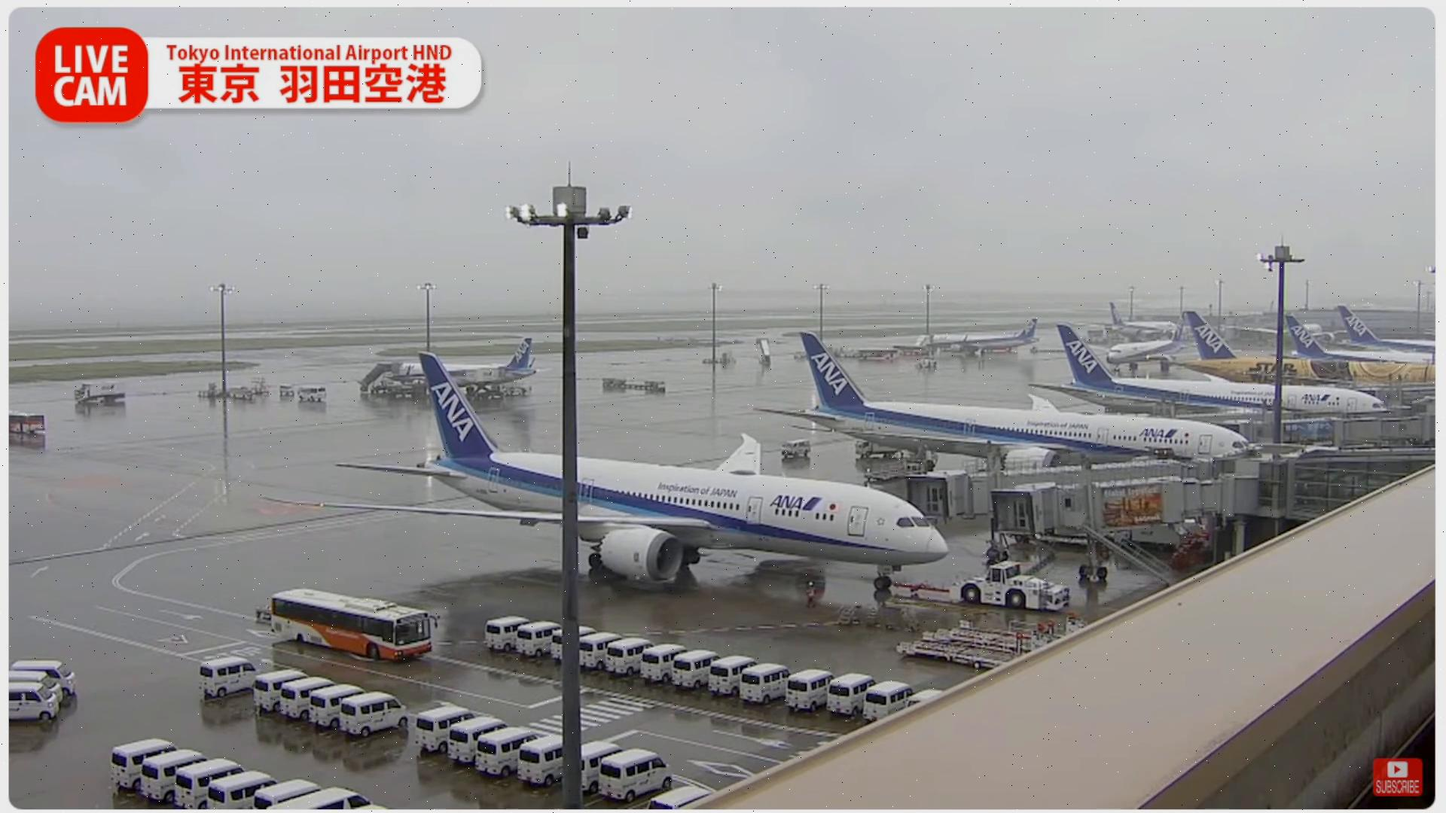APS: (947, 559, 1072, 611)
Aerobridge: (904, 455, 1210, 522), (991, 474, 1261, 535)
Airplane: (258, 350, 950, 589)
JCPL: (924, 615, 1087, 656), (895, 630, 1024, 671)
Window: (1292, 458, 1433, 516)
